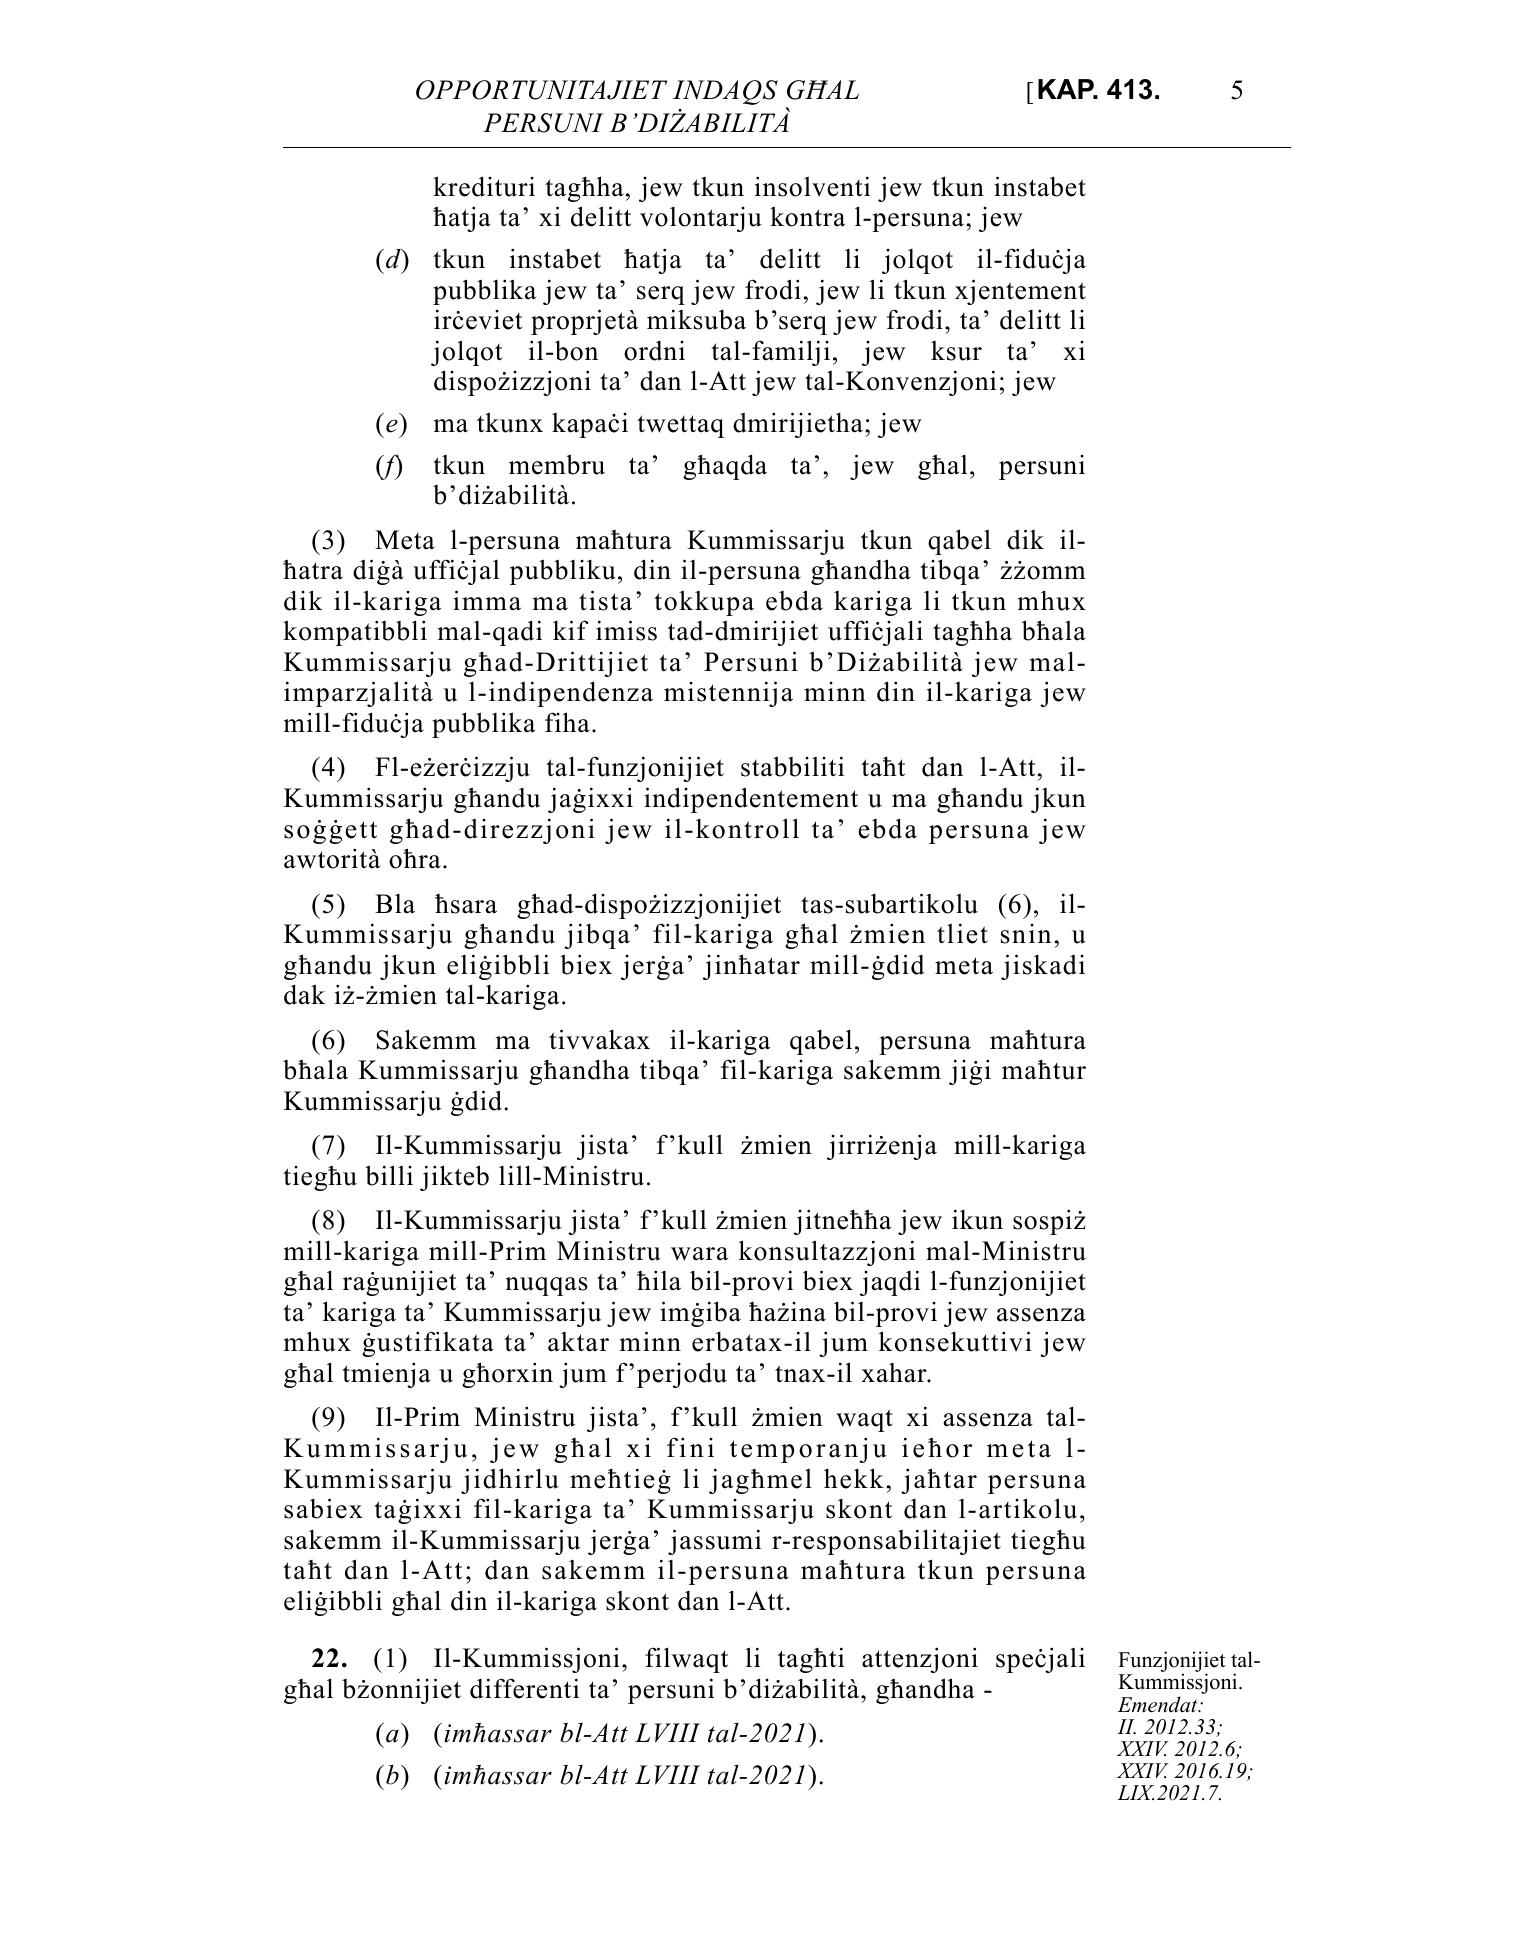text: (270, 160, 1096, 1799)
